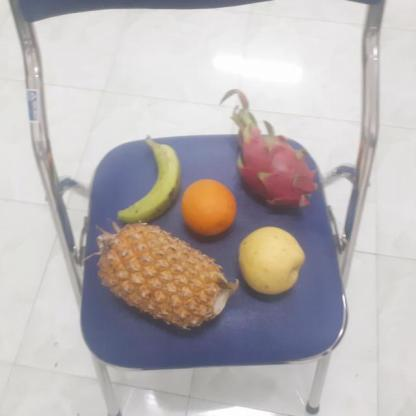orange: (176, 179, 239, 238)
pear: (234, 226, 307, 296)
pineapple: (90, 221, 229, 333)
pitaya: (229, 125, 318, 215), (118, 136, 184, 225)
